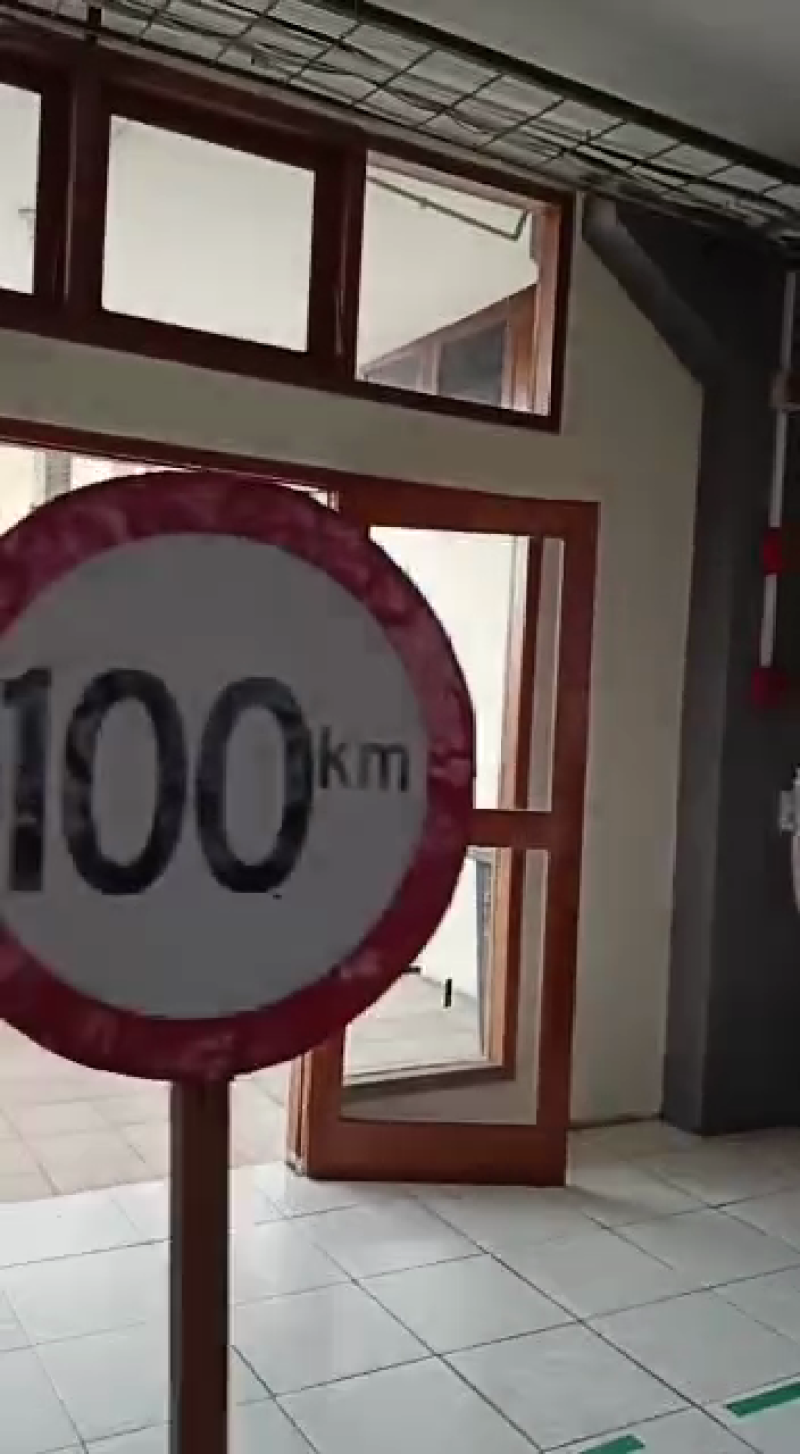batas maksimal 100kmperjam: (1, 442, 496, 1129)
